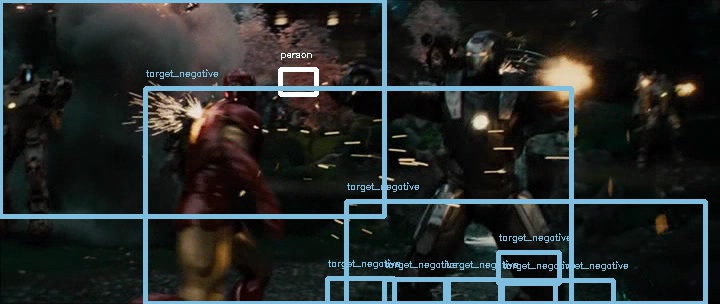person: (211, 69, 259, 109), (210, 69, 258, 109), (212, 69, 260, 109), (211, 68, 259, 108), (211, 70, 259, 110)
target_negative: (307, 75, 554, 184), (446, 84, 607, 233), (445, 143, 693, 225), (513, 42, 600, 221), (45, 275, 430, 300), (603, 272, 711, 303)
